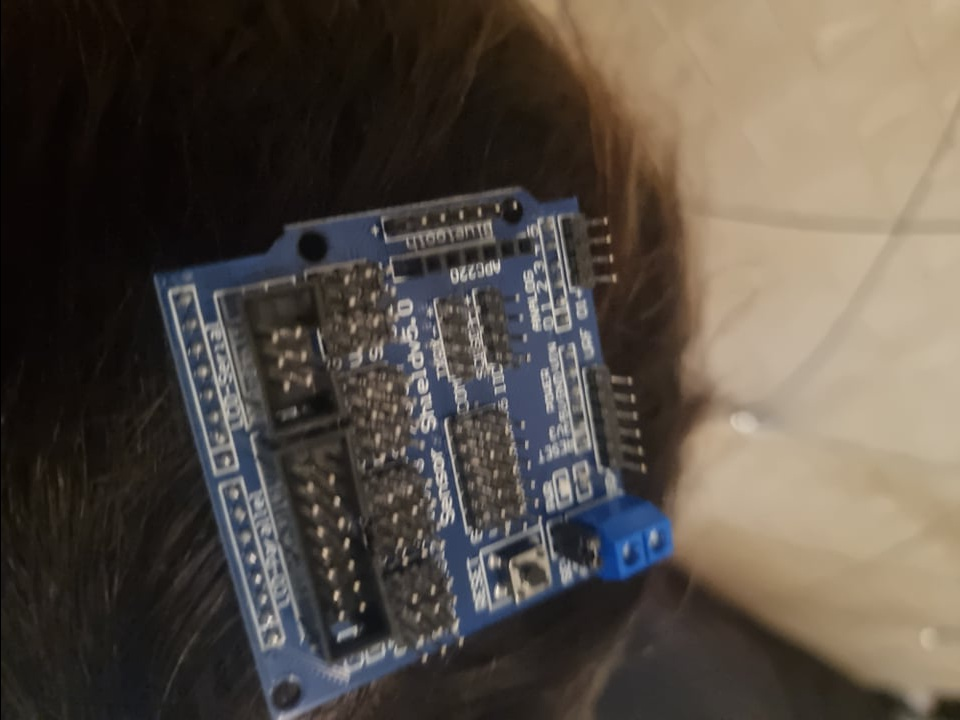5V EXPANSION: (149, 188, 673, 720)
